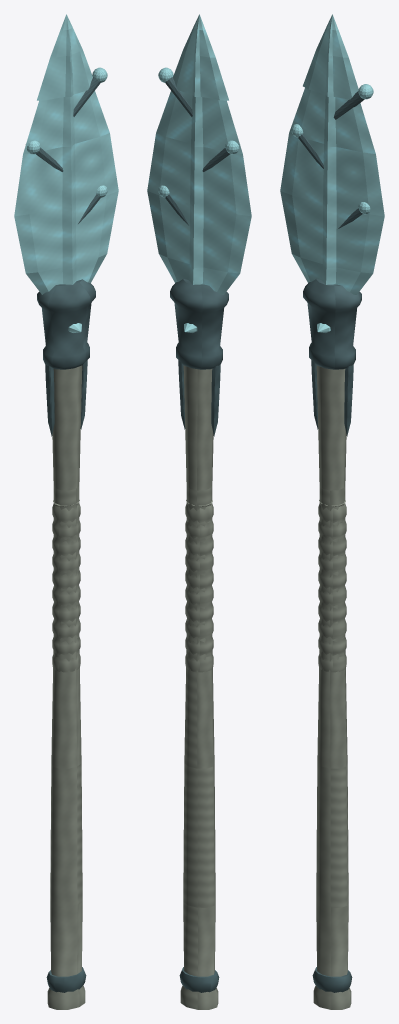
File: underworld-weapon-blackwater-harpoon.glb
The picture shows the model from 3 angles, left to right: view 1: azimuth 30°, elevation 25°; view 2: azimuth 150°, elevation 25°; view 3: azimuth 330°, elevation 25°; orthographic projection.
Parts seen in each view (by area): view 1: spearhead, shaft, grip-wrap, socket, spear-tip, butt-cap, blackwater/barb-2; view 2: spearhead, shaft, grip-wrap, socket, spear-tip, butt-cap, blackwater/barb-2; view 3: spearhead, shaft, grip-wrap, socket, spear-tip, butt-cap, blackwater/barb-2.
Boxes of the visible parts, x1,y1,x2,y2 form: spearhead: [14, 91, 118, 294]; shaft: [47, 365, 85, 1009]; grip-wrap: [52, 500, 80, 672]; socket: [37, 279, 95, 369]; spear-tip: [37, 14, 92, 100]; butt-cap: [45, 360, 87, 992]; blackwater/barb-2: [73, 76, 100, 116]; spearhead: [147, 91, 251, 294]; shaft: [180, 365, 218, 1009]; grip-wrap: [185, 500, 213, 672]; socket: [170, 278, 228, 369]; spear-tip: [173, 14, 228, 100]; butt-cap: [178, 360, 220, 992]; blackwater/barb-2: [165, 76, 192, 116]; spearhead: [280, 87, 384, 294]; shaft: [313, 365, 351, 1009]; grip-wrap: [318, 500, 346, 672]; socket: [303, 278, 361, 369]; spear-tip: [303, 14, 358, 99]; butt-cap: [311, 360, 353, 992]; blackwater/barb-2: [333, 91, 364, 119].
Bounding box in the file's own units: 0.2187 × 1.98 × 0.108.
3 materials, 3 textured.
